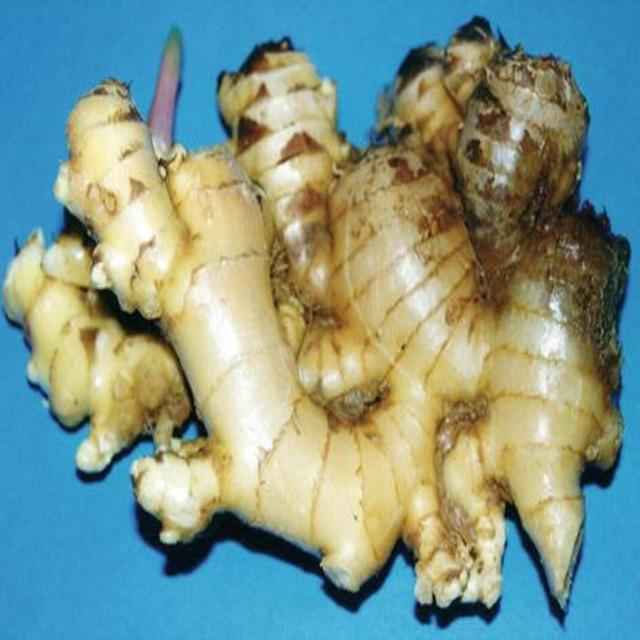ginger: (28, 25, 625, 615)
